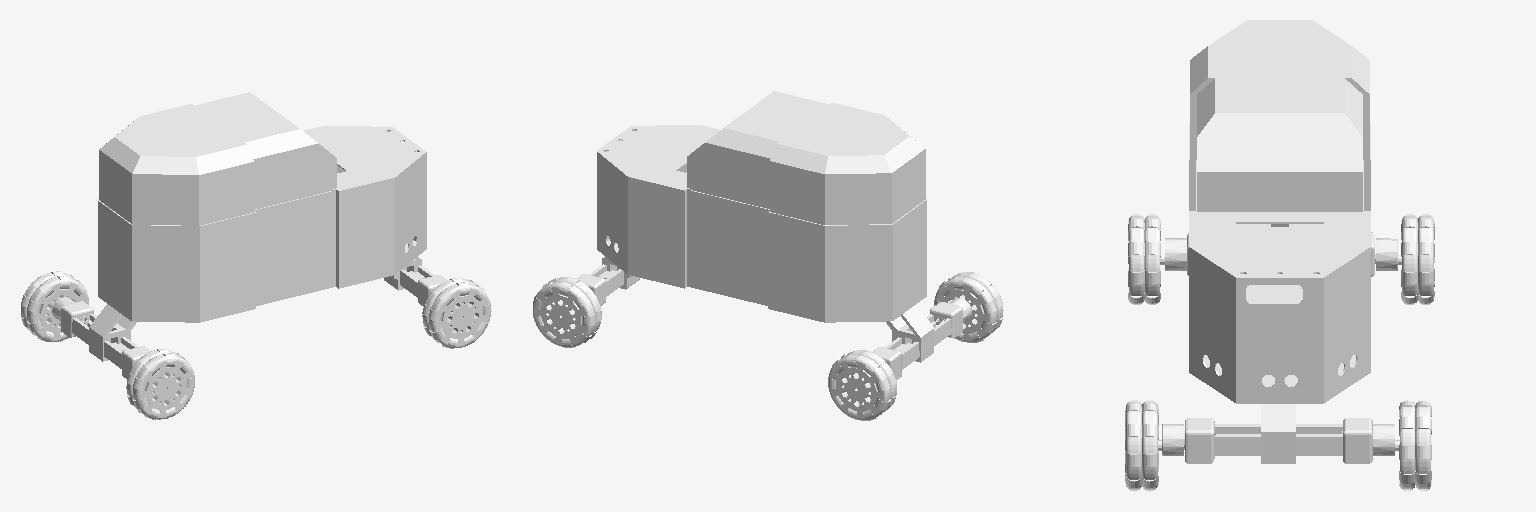
URDF robot description (a4):
<?xml version="1.0" encoding="utf-8"?>
<!-- This URDF was automatically created by SolidWorks to URDF Exporter! Originally created by [author] ([email redacted]) 
     Commit Version: 1.5.1-0-g916b5db  Build Version: 1.5.7152.31018
     For more information, please see http://wiki.ros.org/sw_urdf_exporter -->
<robot
  name="a4">
  <link
    name="base_link">
    <inertial>
      <origin
        xyz="-0.330842757941705 0.00141682914496388 0.241494139907522"
        rpy="0 0 0" />
      <mass
        value="7.41079353922965" />
      <inertia
        ixx="0.0707313872557454"
        ixy="0.000177846823281279"
        ixz="0.0157608310414624"
        iyy="0.14760009216574"
        iyz="7.16123130408671E-07"
        izz="0.126477993045418" />
    </inertial>
    <visual>
      <origin
        xyz="0 0 0"
        rpy="0 0 0" />
      <geometry>
        <mesh
          filename="package://a4/meshes/base_link.STL" />
      </geometry>
      <material
        name="">
        <color
          rgba="1 1 1 1" />
      </material>
    </visual>
    <collision>
      <origin
        xyz="0 0 0"
        rpy="0 0 0" />
      <geometry>
        <mesh
          filename="package://a4/meshes/base_link.STL" />
      </geometry>
    </collision>
  </link>
  <link
    name="w1">
    <inertial>
      <origin
        xyz="-0.0189999999861161 4.65519262027314E-10 -6.67766064665898E-10"
        rpy="0 0 0" />
      <mass
        value="0.265450533362891" />
      <inertia
        ixx="0.000345982313059723"
        ixy="-1.92850392634295E-13"
        ixz="-2.61616916066426E-13"
        iyy="0.000201628854486195"
        iyz="-6.98283871859978E-12"
        izz="0.000201628857010057" />
    </inertial>
    <visual>
      <origin
        xyz="0 0 0"
        rpy="0 0 0" />
      <geometry>
        <mesh
          filename="package://a4/meshes/w1.STL" />
      </geometry>
      <material
        name="">
        <color
          rgba="1 1 1 1" />
      </material>
    </visual>
    <collision>
      <origin
        xyz="0 0 0"
        rpy="0 0 0" />
      <geometry>
        <mesh
          filename="package://a4/meshes/w1.STL" />
      </geometry>
    </collision>
  </link>
  <joint
    name="j1"
    type="continuous">
    <origin
      xyz="-0.02 0.1365 0.0134"
      rpy="-1.6313 0 -1.5708" />
    <parent
      link="base_link" />
    <child
      link="w1" />
    <axis
      xyz="1 0 0" />
  </joint>
  <link
    name="w2">
    <inertial>
      <origin
        xyz="0.0190000000136625 -4.98847900487487E-10 7.02136973562695E-10"
        rpy="0 0 0" />
      <mass
        value="0.265450533362891" />
      <inertia
        ixx="0.000345982313073095"
        ixy="1.97723471068326E-13"
        ixz="2.62911132582024E-13"
        iyy="0.000201628854503653"
        iyz="-6.98332940337526E-12"
        izz="0.000201628857005982" />
    </inertial>
    <visual>
      <origin
        xyz="0 0 0"
        rpy="0 0 0" />
      <geometry>
        <mesh
          filename="package://a4/meshes/w2.STL" />
      </geometry>
      <material
        name="">
        <color
          rgba="1 1 1 1" />
      </material>
    </visual>
    <collision>
      <origin
        xyz="0 0 0"
        rpy="0 0 0" />
      <geometry>
        <mesh
          filename="package://a4/meshes/w2.STL" />
      </geometry>
    </collision>
  </link>
  <joint
    name="j2"
    type="continuous">
    <origin
      xyz="-0.52005 0.13933 0.0134"
      rpy="1.5708 0 1.5708" />
    <parent
      link="base_link" />
    <child
      link="w2" />
    <axis
      xyz="1 0 0" />
  </joint>
  <link
    name="w3">
    <inertial>
      <origin
        xyz="-0.0189999999957724 -5.36854755095462E-10 5.31360566657924E-10"
        rpy="0 0 0" />
      <mass
        value="0.265450533362892" />
      <inertia
        ixx="0.000345982313129266"
        ixy="2.49018474279096E-13"
        ixz="1.85521143791214E-13"
        iyy="0.000201628854543678"
        iyz="-6.97296118279877E-12"
        izz="0.000201628857022206" />
    </inertial>
    <visual>
      <origin
        xyz="0 0 0"
        rpy="0 0 0" />
      <geometry>
        <mesh
          filename="package://a4/meshes/w3.STL" />
      </geometry>
      <material
        name="">
        <color
          rgba="1 1 1 1" />
      </material>
    </visual>
    <collision>
      <origin
        xyz="0 0 0"
        rpy="0 0 0" />
      <geometry>
        <mesh
          filename="package://a4/meshes/w3.STL" />
      </geometry>
    </collision>
  </link>
  <joint
    name="j3"
    type="continuous">
    <origin
      xyz="-0.02 -0.1365 0.0134"
      rpy="-2.0084 0 1.5708" />
    <parent
      link="base_link" />
    <child
      link="w3" />
    <axis
      xyz="1 0 0" />
  </joint>
  <link
    name="w4">
    <inertial>
      <origin
        xyz="-0.0189999999863382 -4.98846935981234E-10 7.02147465170277E-10"
        rpy="0 0 0" />
      <mass
        value="0.265450533362891" />
      <inertia
        ixx="0.000345982313073095"
        ixy="1.97723430268097E-13"
        ixz="2.62911150864385E-13"
        iyy="0.000201628854503653"
        iyz="-6.98332957124218E-12"
        izz="0.000201628857005981" />
    </inertial>
    <visual>
      <origin
        xyz="0 0 0"
        rpy="0 0 0" />
      <geometry>
        <mesh
          filename="package://a4/meshes/w4.STL" />
      </geometry>
      <material
        name="">
        <color
          rgba="1 1 1 1" />
      </material>
    </visual>
    <collision>
      <origin
        xyz="0 0 0"
        rpy="0 0 0" />
      <geometry>
        <mesh
          filename="package://a4/meshes/w4.STL" />
      </geometry>
    </collision>
  </link>
  <joint
    name="j4"
    type="continuous">
    <origin
      xyz="-0.52005 -0.13367 0.0134"
      rpy="1.5708 0 1.5708" />
    <parent
      link="base_link" />
    <child
      link="w4" />
    <axis
      xyz="1 0 0" />
  </joint>
</robot>

--- Render facts (derived) ---
3 views of the same robot in one strip: view 1: azimuth 30°, elevation 25°; view 2: azimuth 150°, elevation 25°; view 3: azimuth 270°, elevation 25° (orthographic).
Model a4 with 5 links and 4 joints (4 continuous), rooted at base_link, posed every joint at zero.
Visible links, largest first — view 1: base_link, w3, w4, w2; view 2: base_link, w2, w1, w4; view 3: base_link, w3, w2, w4, w1.
Boxes of the visible links, box(x1,y1,x2,y2) form: base_link: box(52, 92, 462, 378); w3: box(422, 277, 491, 348); w4: box(126, 349, 194, 419); w2: box(21, 271, 88, 341); base_link: box(577, 91, 971, 389); w2: box(828, 350, 896, 420); w1: box(533, 277, 601, 347); w4: box(934, 272, 1003, 342); base_link: box(1158, 20, 1401, 463); w3: box(1125, 400, 1158, 491); w2: box(1401, 214, 1434, 304); w4: box(1128, 214, 1160, 304); w1: box(1399, 400, 1431, 490).
Size in the robot's own frame: 0.6034 by 0.3516 by 0.3678 metres.
Meshes: 5 distinct files referenced, 5 mesh visuals loaded (5 binary STL).